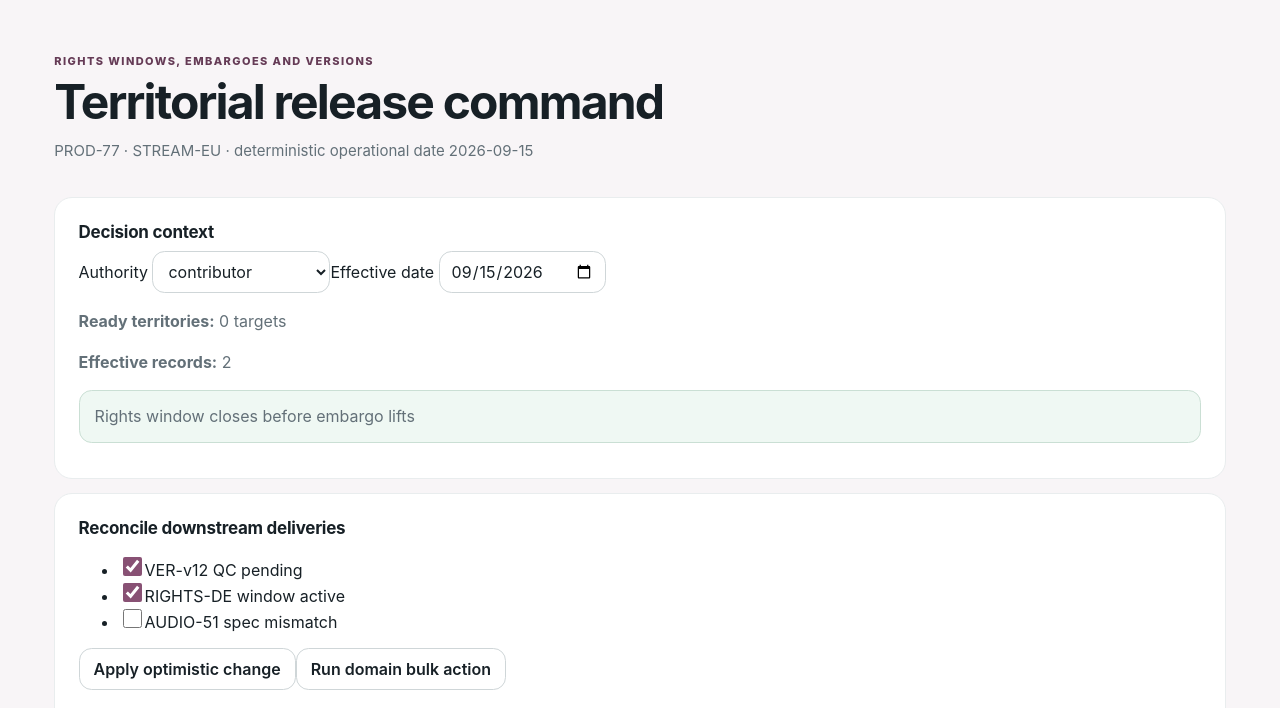
Test: Territorial release command › shows permission behavior and partial recovery in the UI
This screenshot has width=1280, height=708.
Select "rights approver" in the dropdown labelled "Authority": (242, 272) [152,251,330,293]
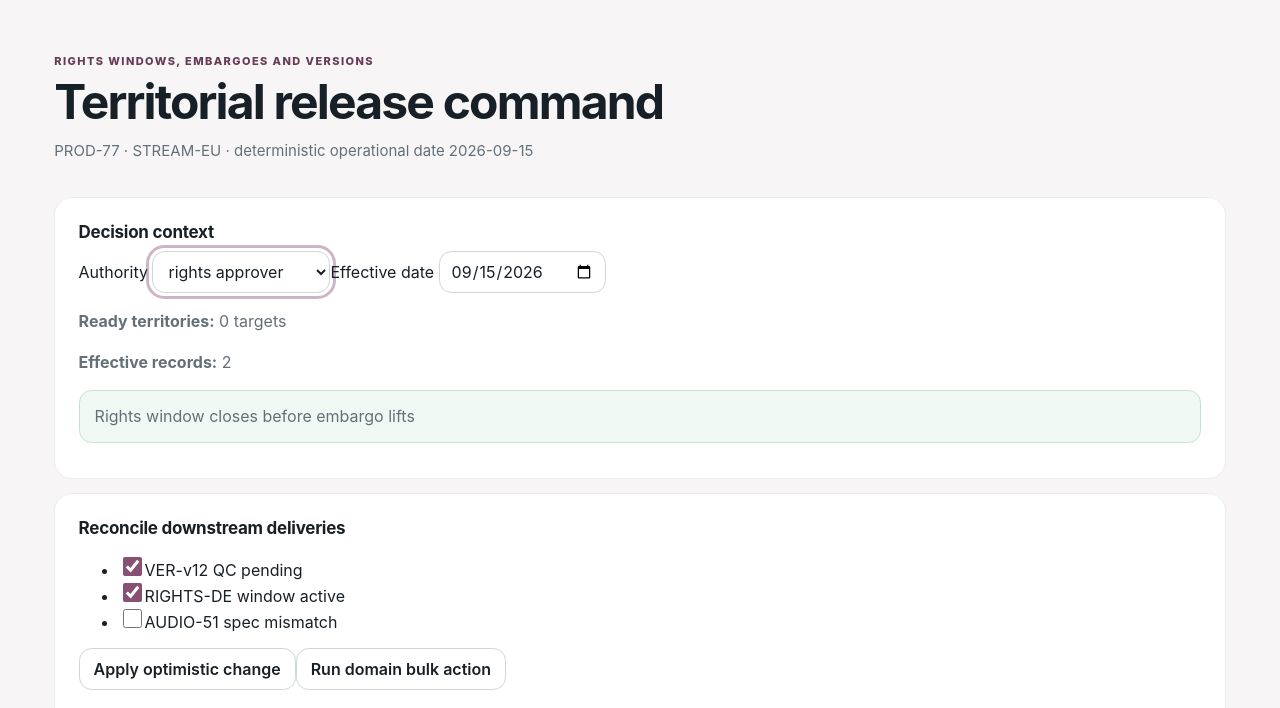
Click the button "Run domain bulk action": (401, 669) [296,648,506,690]
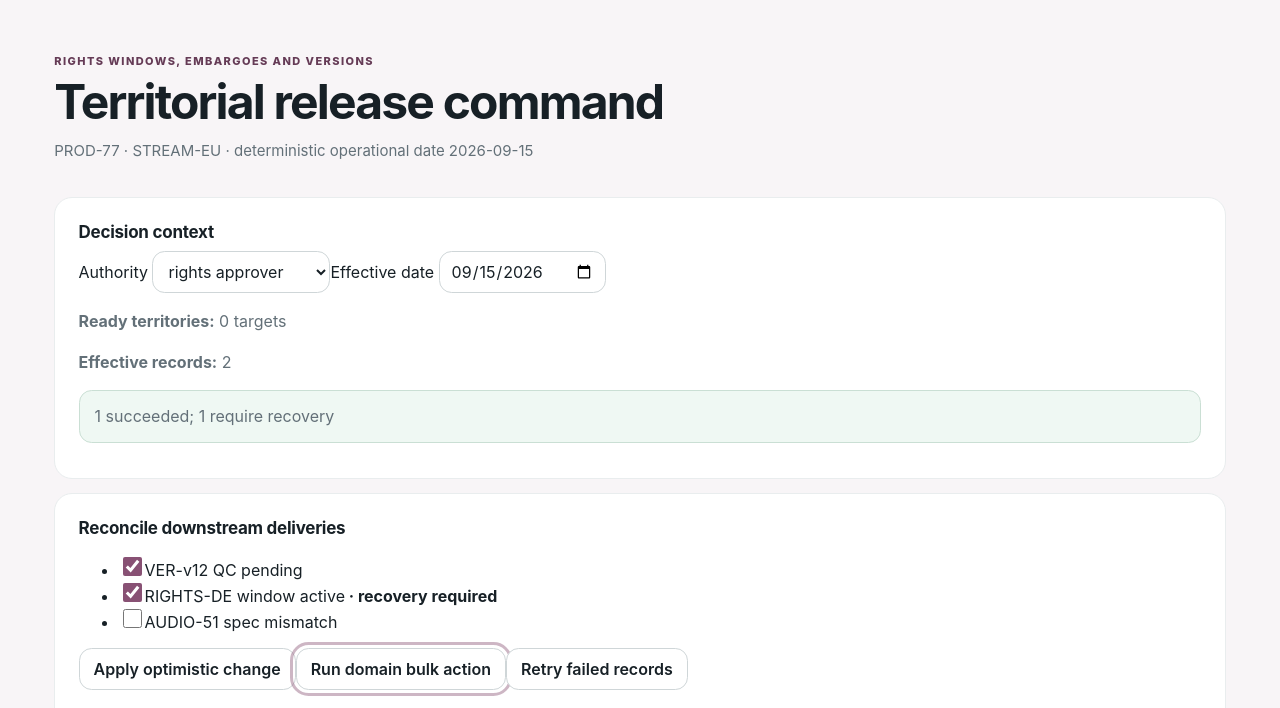
Now the message reads "1 succeeded; 1 require recovery", box [95,406,334,426]
Now the text "· recovery required" is shown, box [345,586,497,606]
Now the button "Retry failed records" is shown, box [506,648,688,690]
